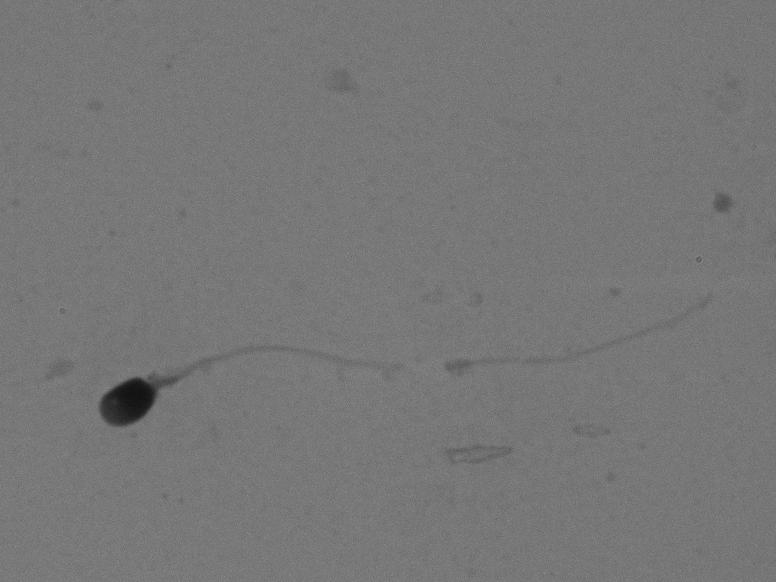Abnormal: (90, 248, 734, 446)
